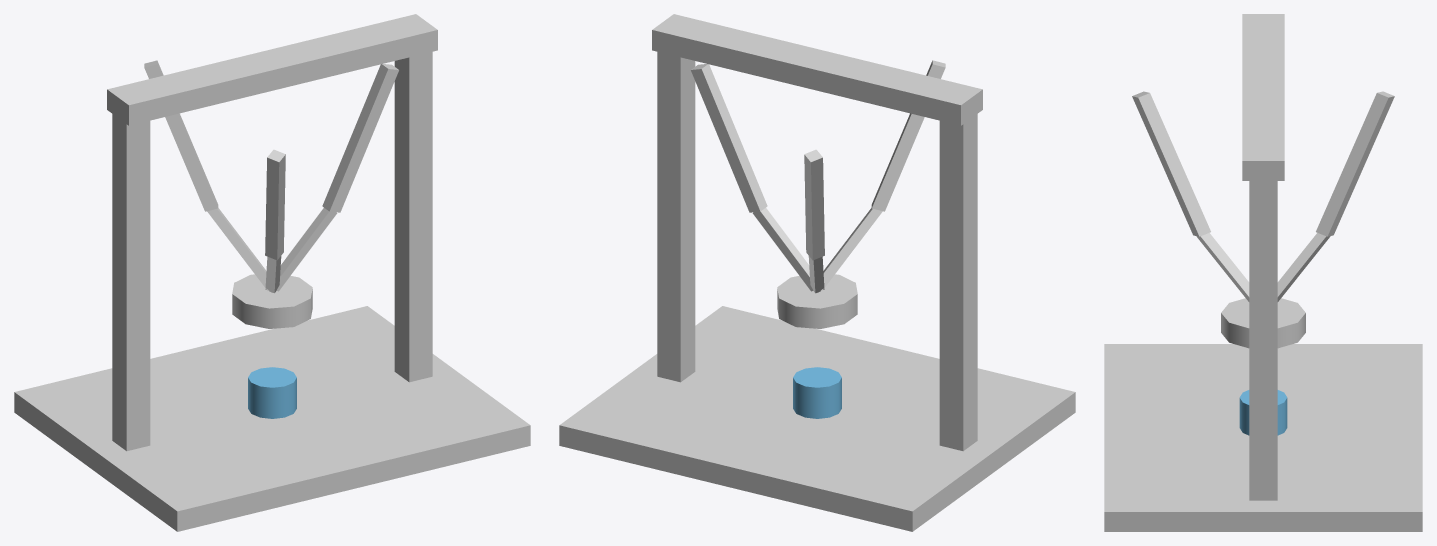
The picture shows the model from 3 angles, left to right: view 1: azimuth 30°, elevation 25°; view 2: azimuth 150°, elevation 25°; view 3: azimuth 270°, elevation 25°; orthographic projection. The views are drawn at different scales.
Parts seen in each view (by area): view 1: base_frame_1, crossbeam_4, column_2, column_3, effector_11, link_5, visualJoint, link_7, link_9, link_6, link_10; view 2: base_frame_1, crossbeam_4, column_2, column_3, effector_11, link_5, visualJoint, link_9, link_7, link_6, link_8; view 3: base_frame_1, column_3, crossbeam_4, link_7, link_9, effector_11, link_8, link_10, visualJoint.
Part boxes in pixels (box(x1,y1,x2,y2)): base_frame_1: box(14, 306, 530, 531); crossbeam_4: box(107, 14, 437, 125); column_2: box(112, 114, 150, 451); column_3: box(394, 52, 432, 382); effector_11: box(232, 274, 312, 328); link_5: box(322, 64, 398, 212); visualJoint: box(248, 367, 296, 418); link_7: box(265, 149, 285, 260); link_9: box(144, 60, 218, 211); link_6: box(276, 208, 337, 291); link_10: box(207, 208, 268, 290); base_frame_1: box(559, 306, 1075, 531); crossbeam_4: box(652, 14, 982, 125); column_2: box(939, 114, 977, 451); column_3: box(657, 52, 695, 382); effector_11: box(777, 274, 857, 328); link_5: box(691, 64, 767, 212); visualJoint: box(793, 367, 841, 418); link_9: box(804, 149, 824, 260); link_7: box(871, 60, 945, 211); link_6: box(752, 208, 813, 291); link_8: box(821, 208, 882, 290); base_frame_1: box(1104, 344, 1422, 531); column_3: box(1249, 181, 1277, 500); crossbeam_4: box(1242, 14, 1284, 180); link_7: box(1132, 91, 1210, 236); link_9: box(1316, 91, 1394, 236); effector_11: box(1221, 298, 1305, 348); link_8: box(1196, 233, 1249, 301); link_10: box(1277, 233, 1330, 301); visualJoint: box(1239, 390, 1287, 435).
Bounding box in the file's own units: 2.5 × 2.85 × 2.
